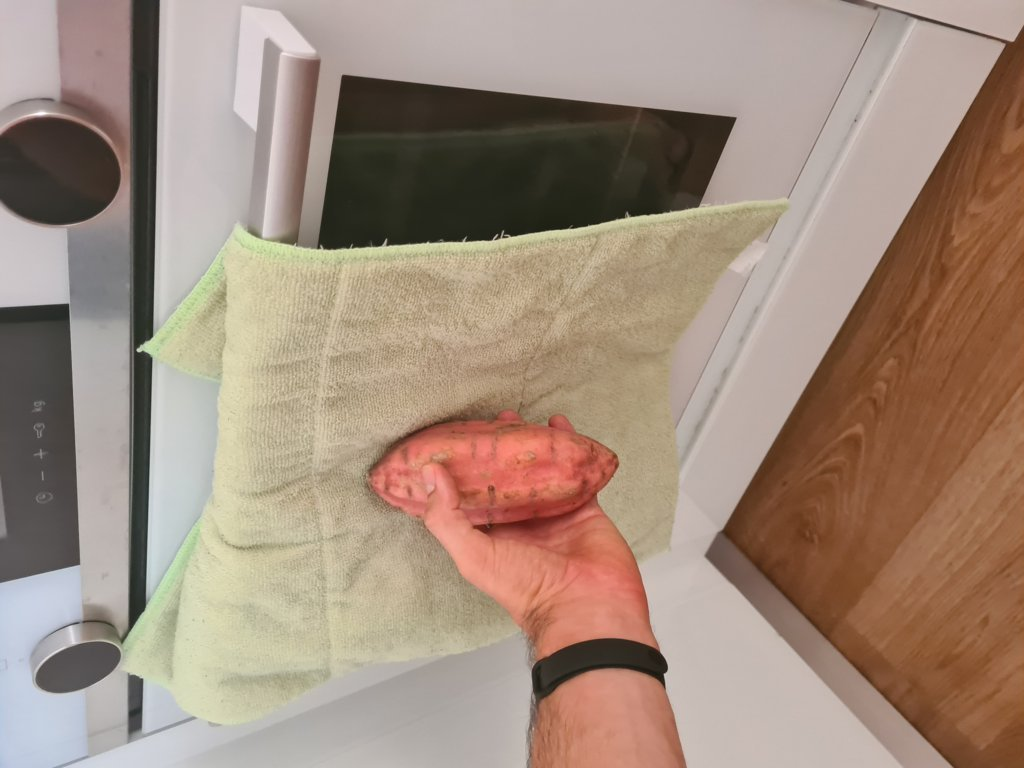Sweet Potatow: (373, 425, 616, 525)
